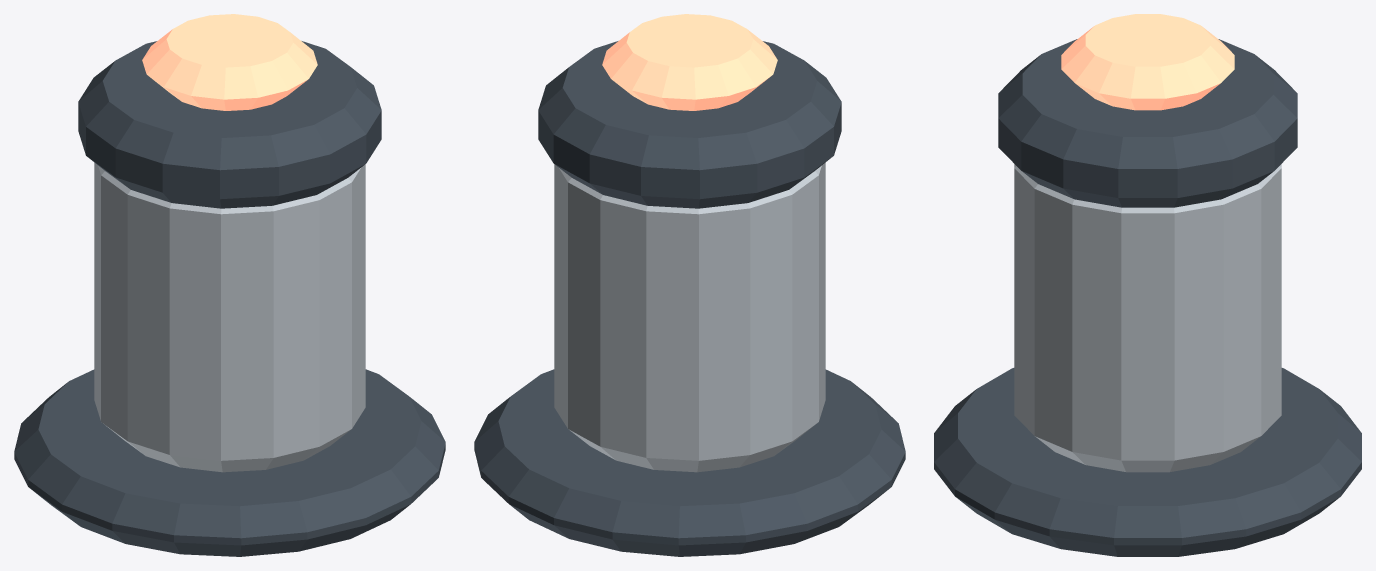
Rendered from Laser_Up.gltf.
3 renders of one model, left to right at view 1: azimuth 30°, elevation 25°; view 2: azimuth 150°, elevation 25°; view 3: azimuth 270°, elevation 25°, orthographic.
Parts seen in each view (by area): view 1: Laser_Up_baked; view 2: Laser_Up_baked; view 3: Laser_Up_baked.
Part boxes in pixels (x1,y1,x2,y2): Laser_Up_baked: (14, 14, 445, 556); Laser_Up_baked: (474, 14, 905, 556); Laser_Up_baked: (934, 14, 1361, 556).
Size of the model in its own units: 0.5334 by 0.6 by 0.5334.
